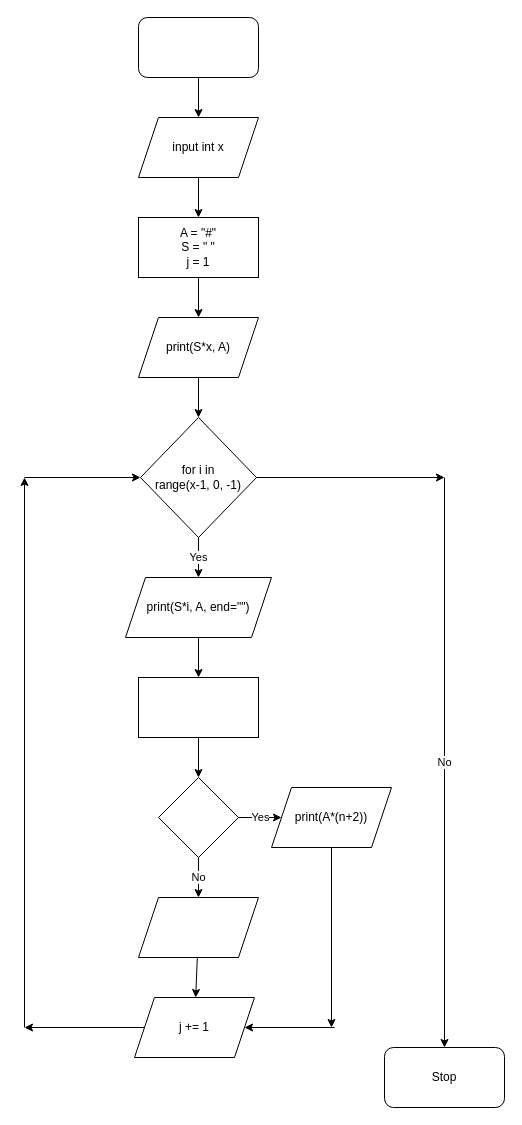
Some shapes in this 522 by 1125 pixel diagram are drawn without their labels. The centre of each missing label's shape, as x and y in pixels:
if j == x//2: the point at 198,817
n = 2*j -2: the point at 198,707
print(S*n, A): the point at 198,927
Start: the point at 198,47
